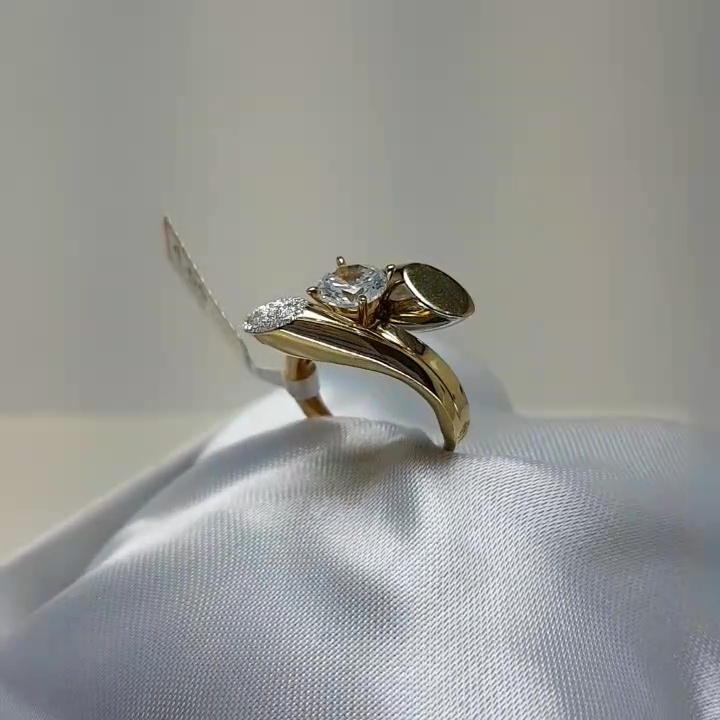Ring 7: (241, 221, 483, 488)
